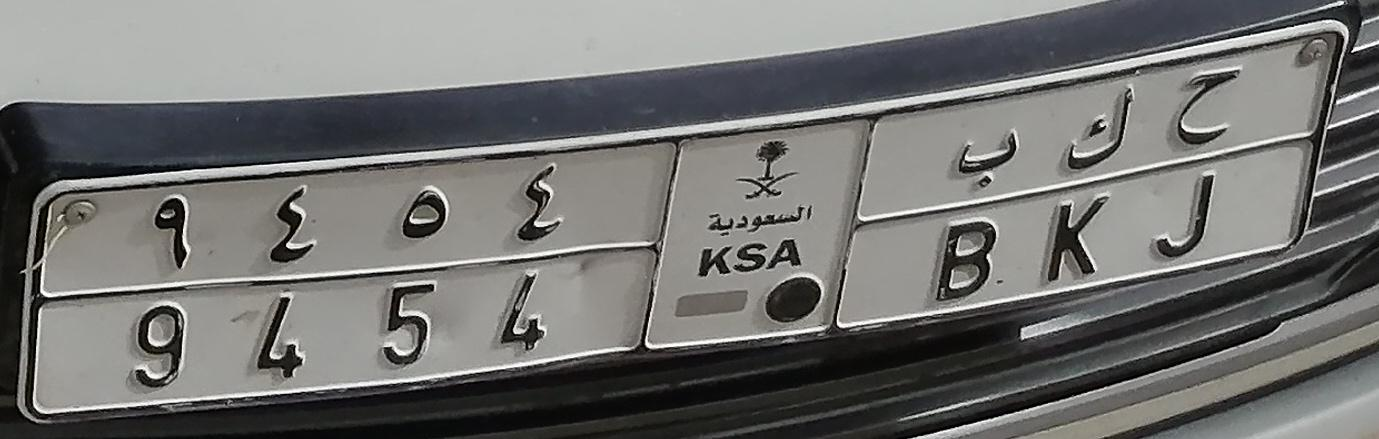4: (245, 183, 324, 383), (492, 160, 573, 355)
5: (374, 183, 455, 369)
9: (124, 191, 199, 394)
B: (929, 122, 1025, 306)
J: (1149, 63, 1249, 259)
K: (1041, 79, 1142, 287)
